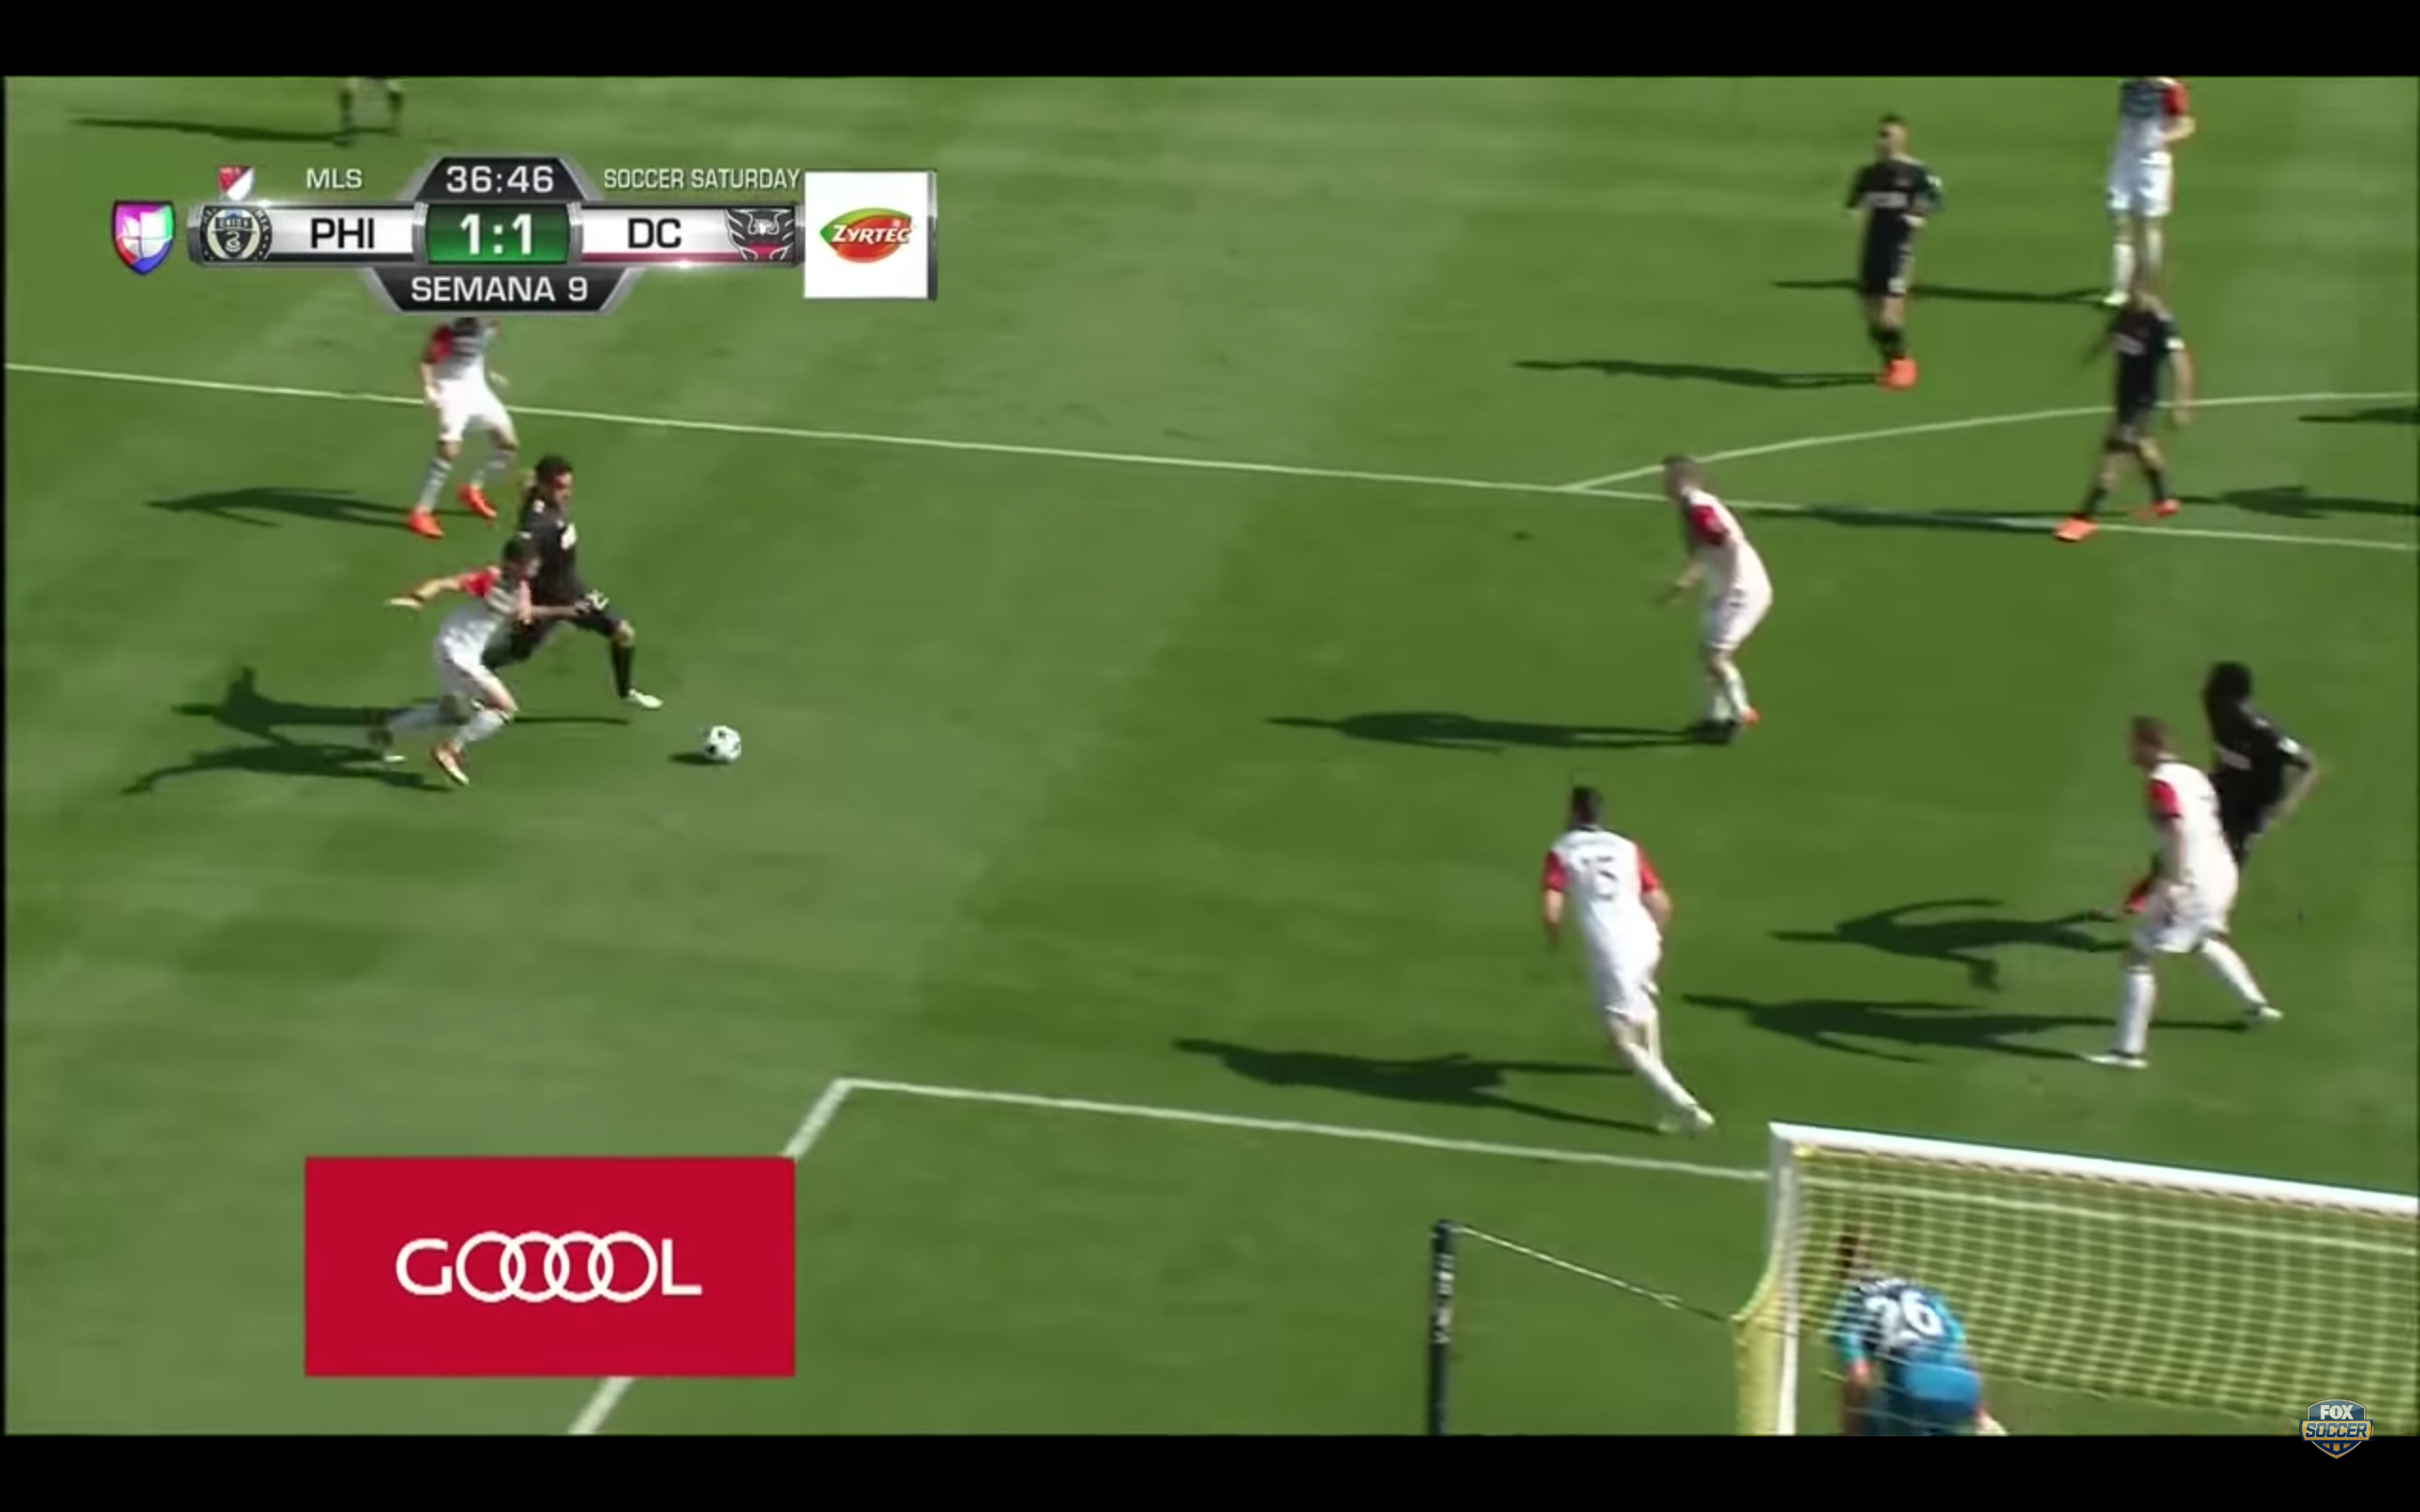soccer ball: (691, 717, 754, 773)
soccer player: (1512, 765, 1740, 1144), (2082, 710, 2267, 1100), (367, 531, 583, 795), (1619, 447, 1804, 750), (2028, 265, 2216, 555), (1789, 1228, 2018, 1438), (514, 449, 658, 728), (1816, 117, 1961, 394), (2208, 647, 2354, 867), (2090, 85, 2205, 307), (398, 329, 521, 531)
